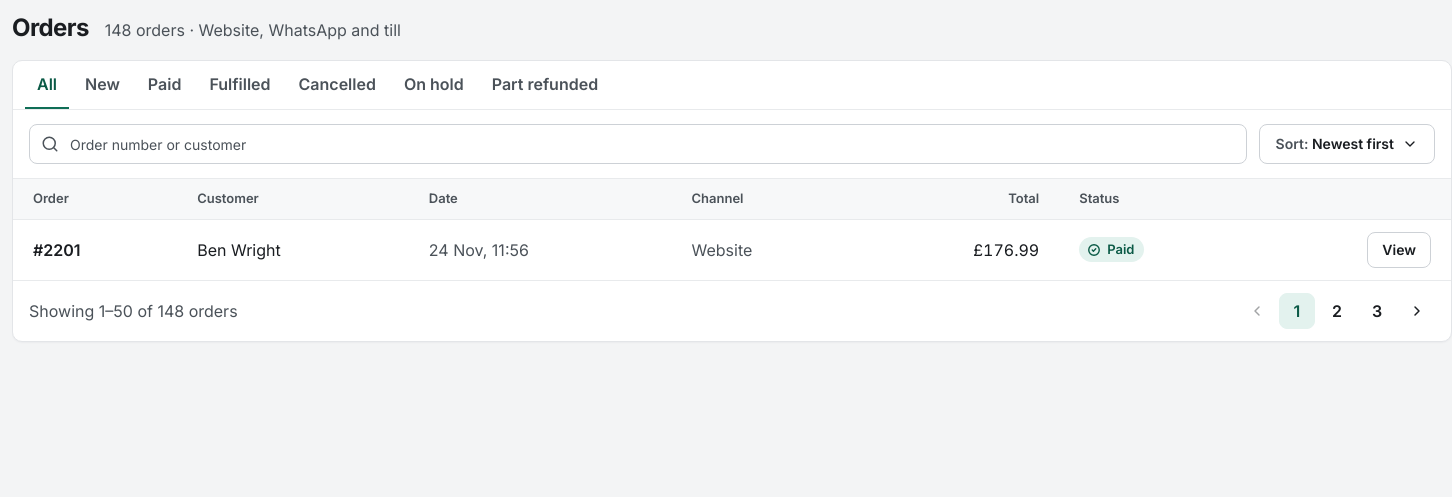
it: Order search, filters and sorting › offers a way back when nothing matches
Expected: the table is shown, top-left (13, 179), bottom-right (1451, 280)
Type "zzz" into the field named "Search orders". click: [638, 144]
box: top-left (29, 124), bottom-right (1246, 164)
Then press Enter
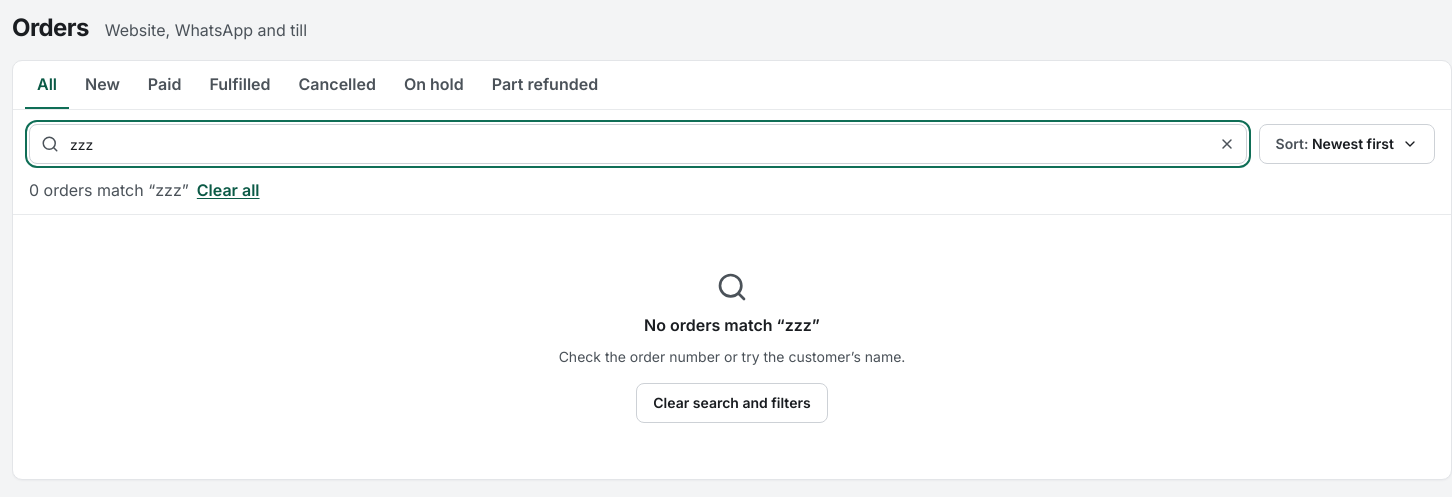
Now the text "No orders match “zzz”" is shown, box top-left (644, 313), bottom-right (820, 337)
Click the button "Clear search and filters". click: [732, 403]
box: top-left (636, 383), bottom-right (828, 423)
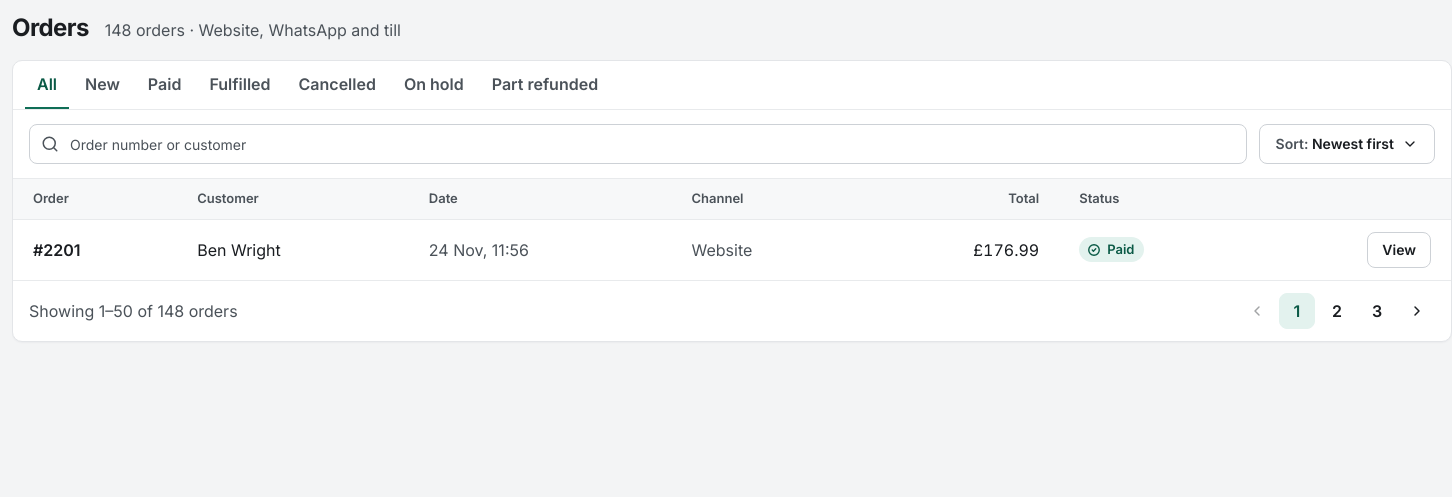
Now the table is shown, box top-left (13, 179), bottom-right (1451, 280)
Now the field named "Search orders" is empty, box top-left (29, 124), bottom-right (1246, 164)
